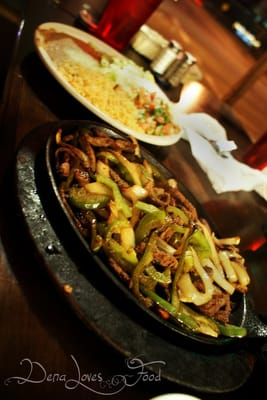curry: (0, 8, 265, 393)
sandwich: (41, 122, 257, 341)
